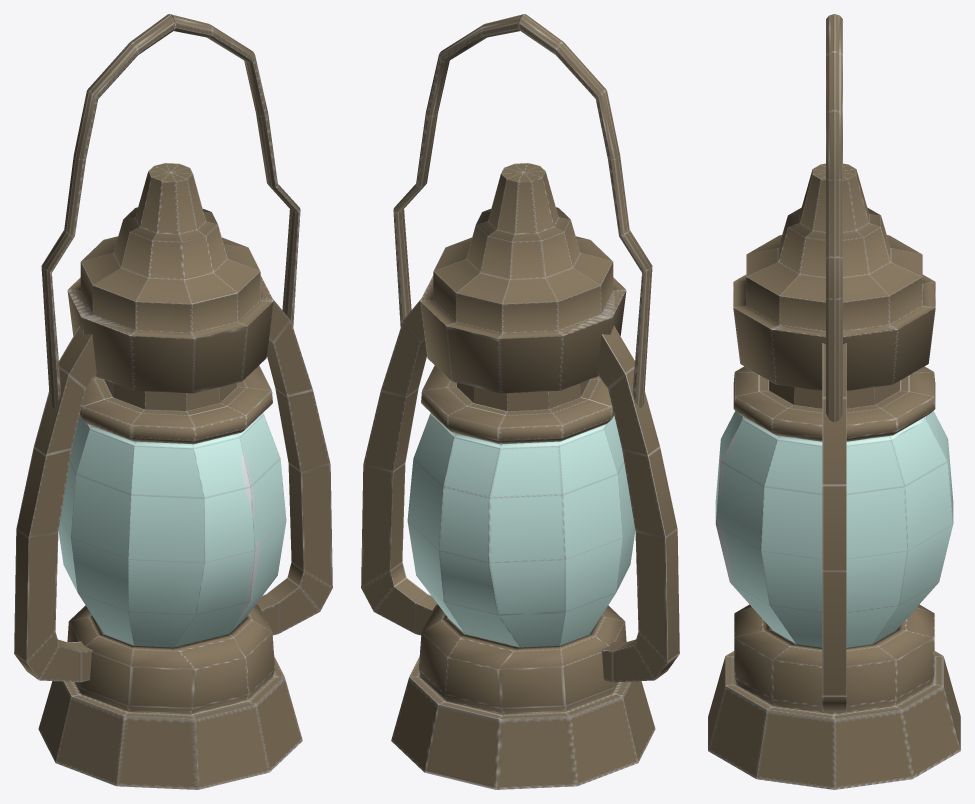
File: lamp02.fbx
The picture shows the model from 3 angles, left to right: view 1: azimuth 30°, elevation 25°; view 2: azimuth 150°, elevation 25°; view 3: azimuth 270°, elevation 25°; orthographic projection.
Parts seen in each view (by area): view 1: pCylinder4; view 2: pCylinder4; view 3: pCylinder4.
Boxes of the visible parts, x1=… form: pCylinder4: x1=14, y1=14, x2=332, y2=789; pCylinder4: x1=361, y1=14, x2=679, y2=789; pCylinder4: x1=708, y1=14, x2=960, y2=789.
Bounding box in the file's own units: 3.15 × 7.09 × 2.25.
